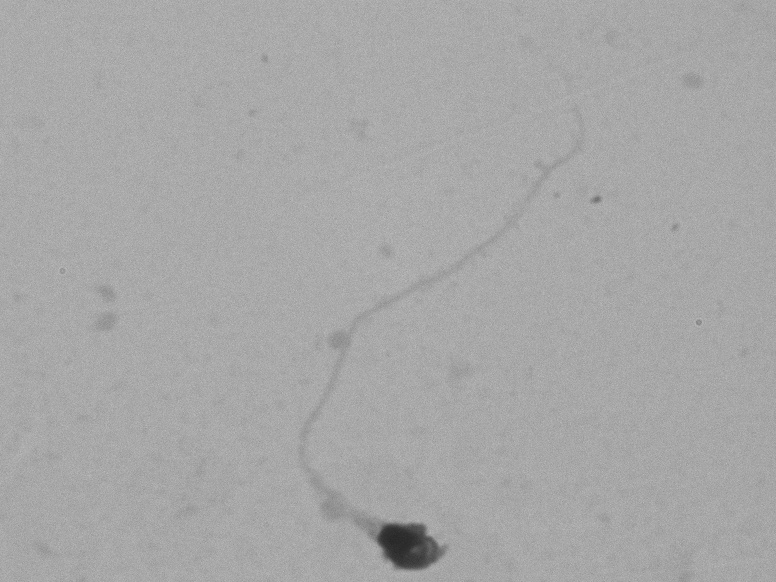Abnormal: (214, 82, 569, 576)
